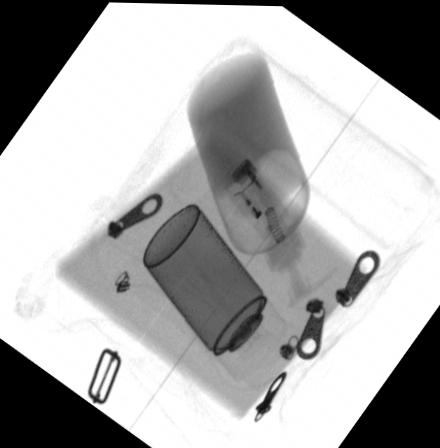Lighter: (222, 156, 290, 240)
Sprayer: (142, 204, 287, 380)
